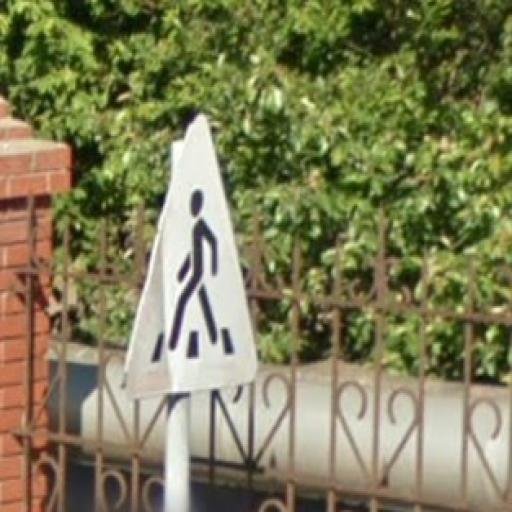traffic_sign: (124, 114, 261, 398)
